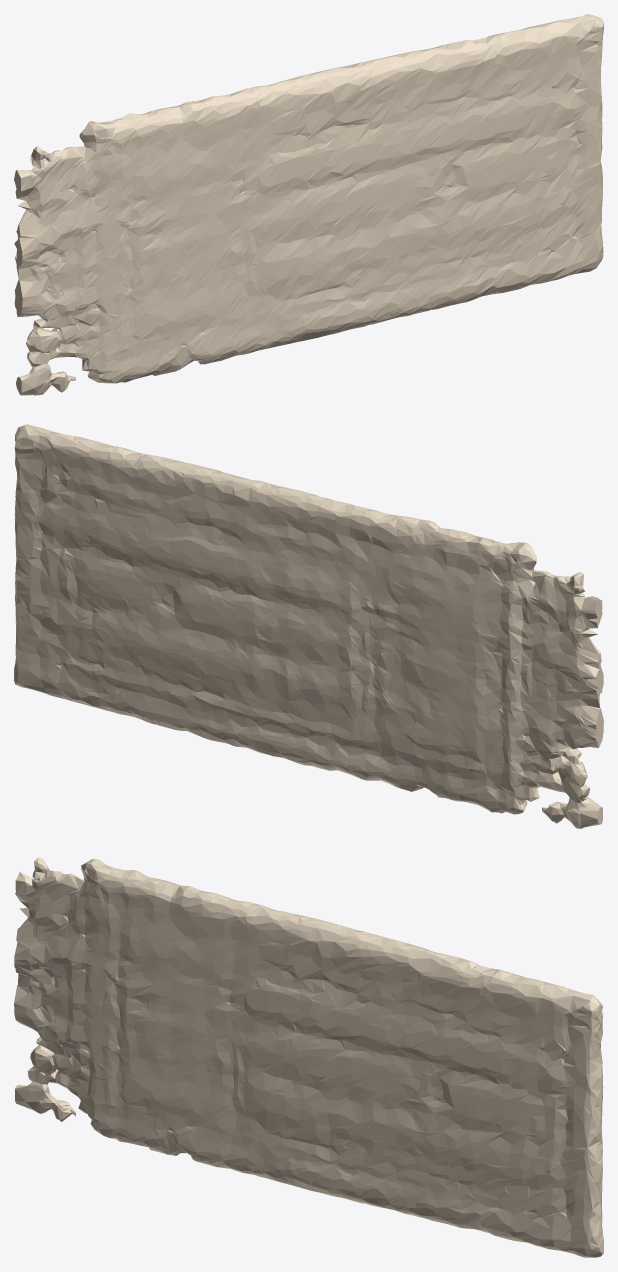
The model's file is improved.glb.
3 renders of one model, top to bottom at view 1: azimuth 30°, elevation 25°; view 2: azimuth 150°, elevation 25°; view 3: azimuth 330°, elevation 25°, orthographic. The views are drawn at different scales.
Visible parts, largest first — view 1: world; view 2: world; view 3: world.
Boxes of the visible parts, x1=… form: world: x1=14, y1=14, x2=603, y2=395; world: x1=14, y1=424, x2=603, y2=828; world: x1=14, y1=857, x2=603, y2=1257.
Size of the model in its own units: 1.2 by 0.533 by 0.0749.
